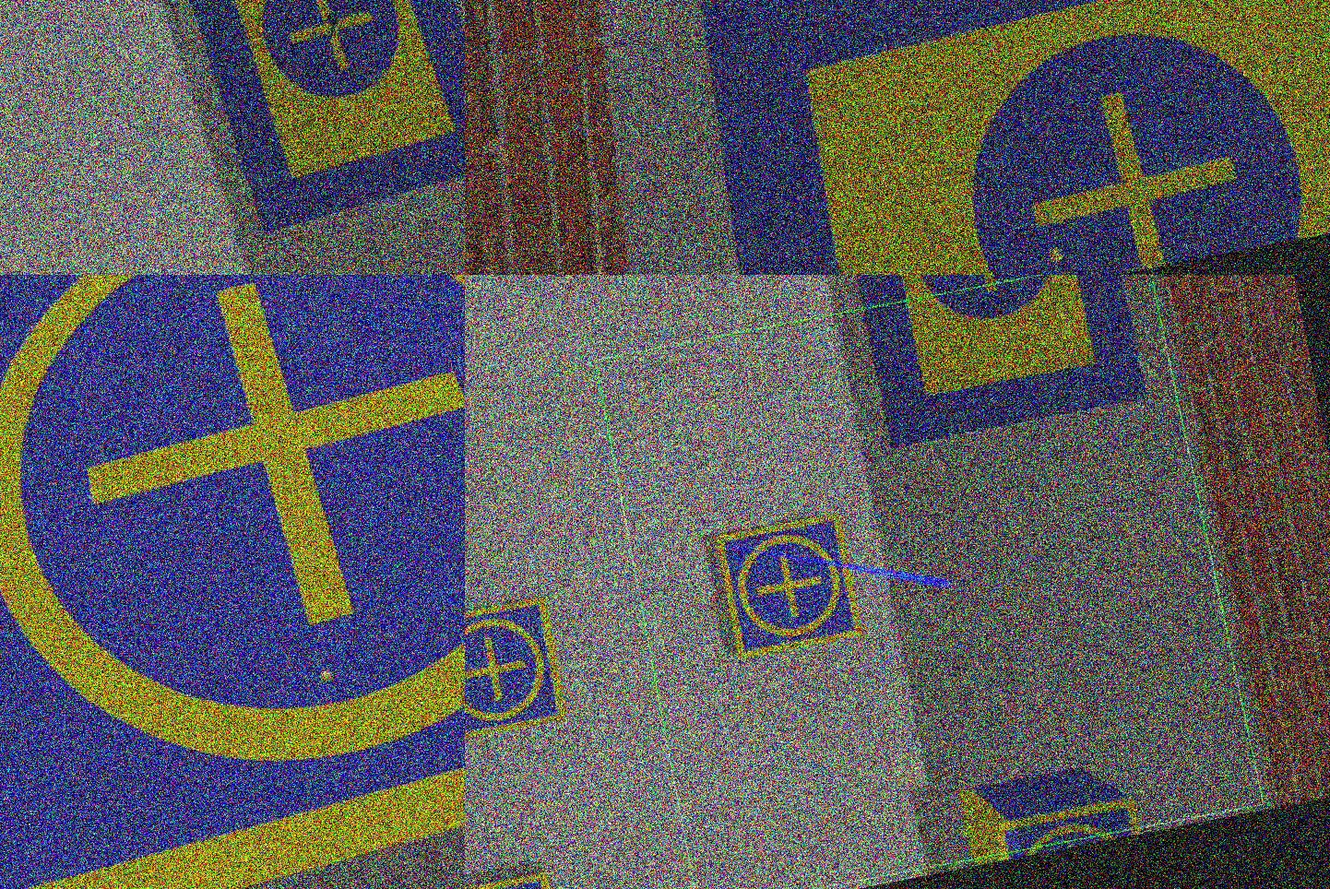large_base: (677, 1, 1330, 275), (151, 1, 465, 242), (833, 275, 1150, 454)
small_base: (1, 275, 465, 889), (713, 513, 862, 663), (465, 598, 568, 750), (992, 797, 1144, 868), (465, 864, 560, 889)
